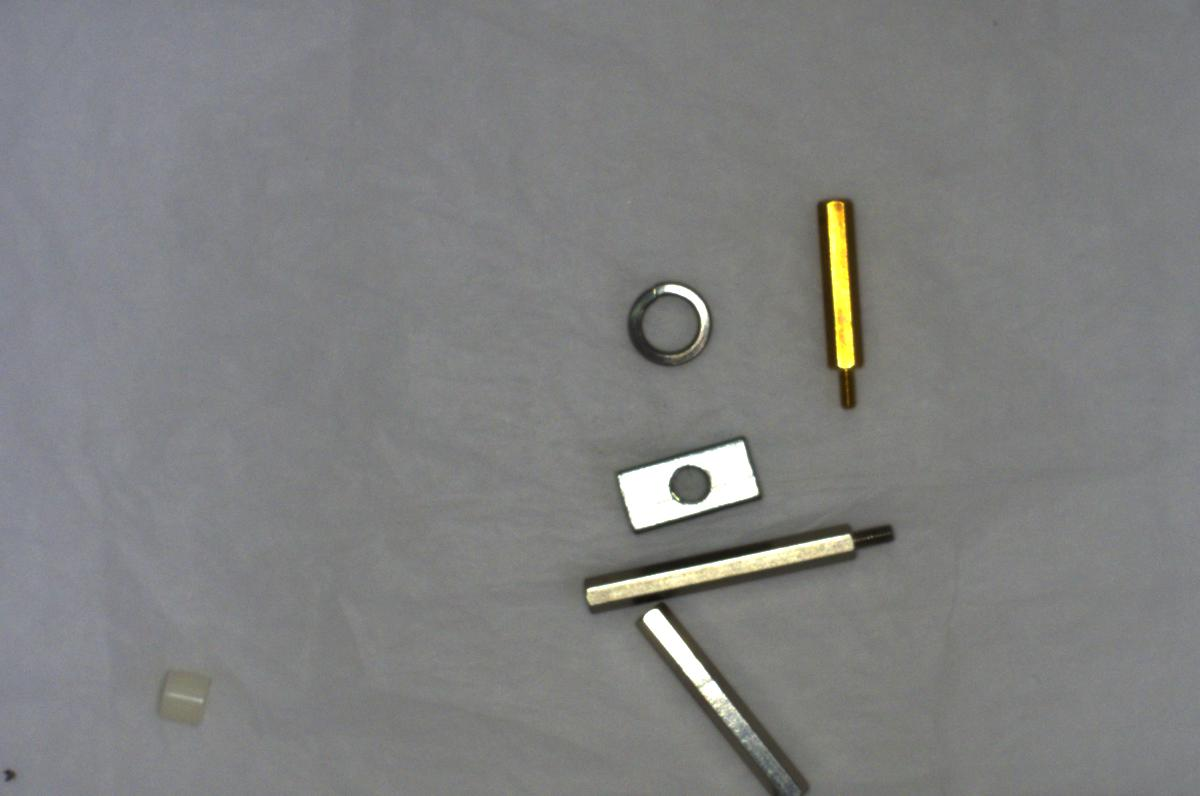Double hexagonal column: (629, 600, 819, 795)
Hexagon pillar: (814, 191, 870, 417)
Hexagonal steel column: (571, 517, 900, 619)
Plastic cushion pillar: (143, 659, 214, 730)
Rectangular nut: (605, 432, 776, 537)
Spring washer: (614, 276, 717, 378)
